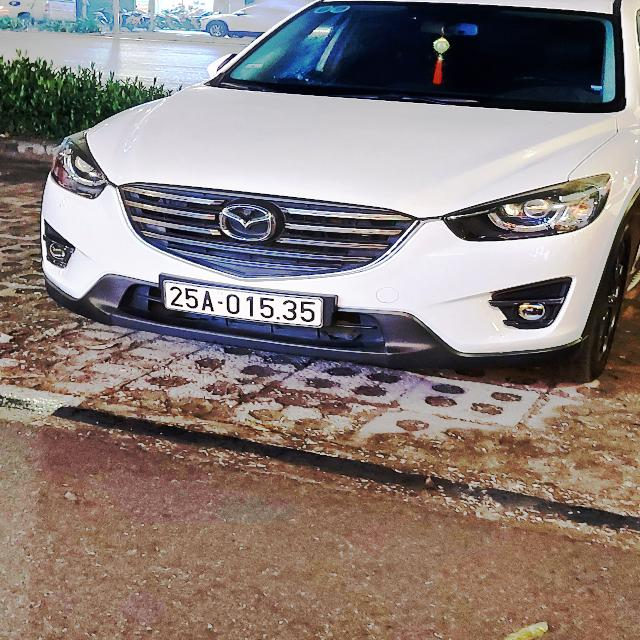license_plate: (160, 277, 330, 335)
